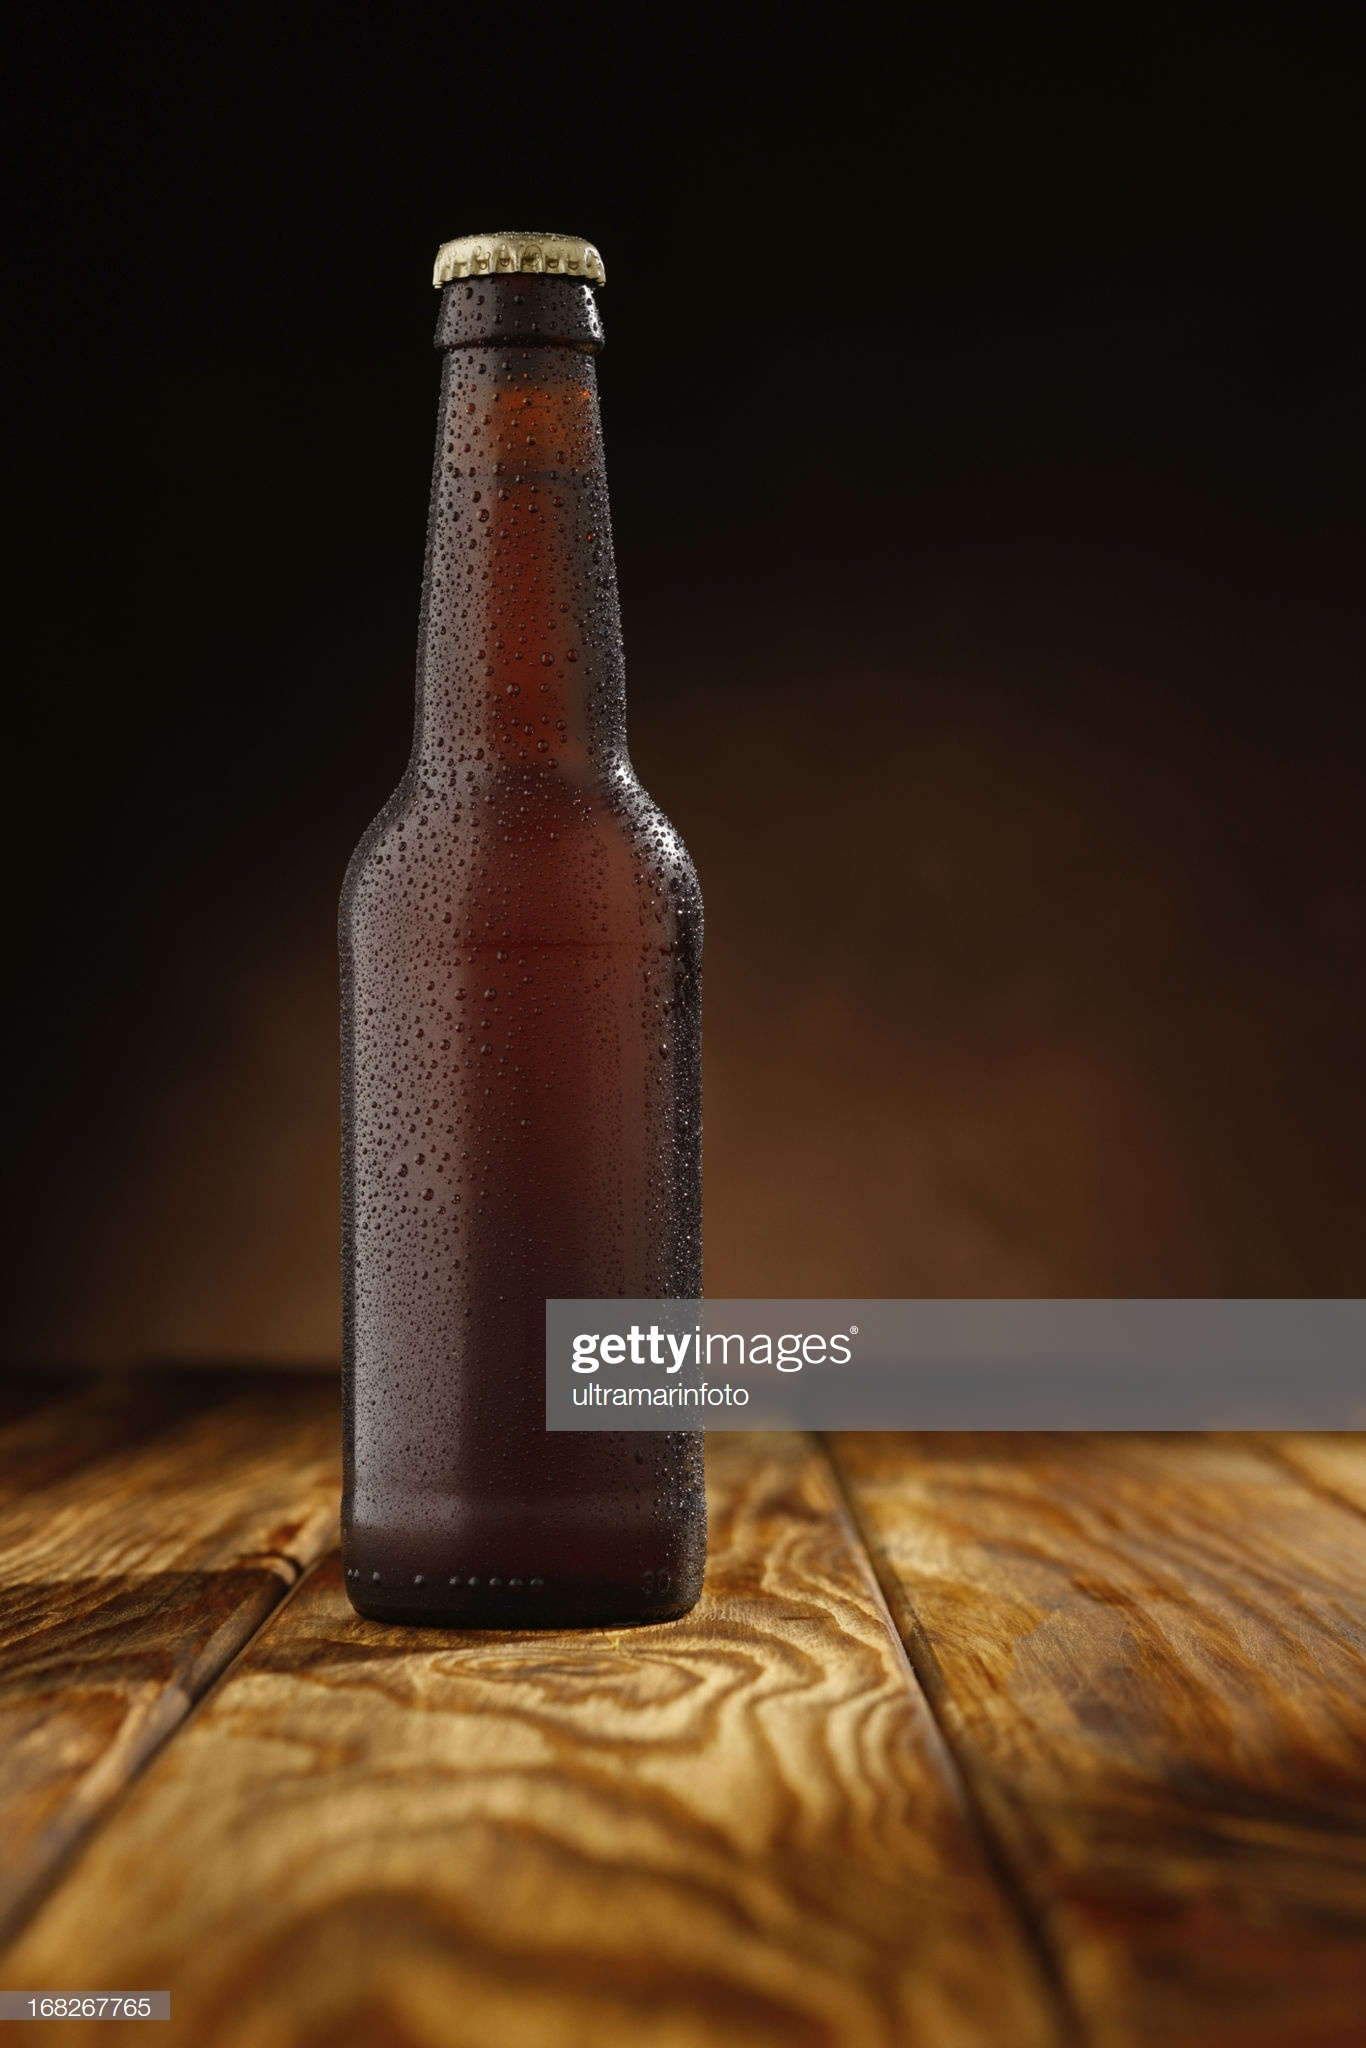beerBottle: (358, 229, 700, 1595)
